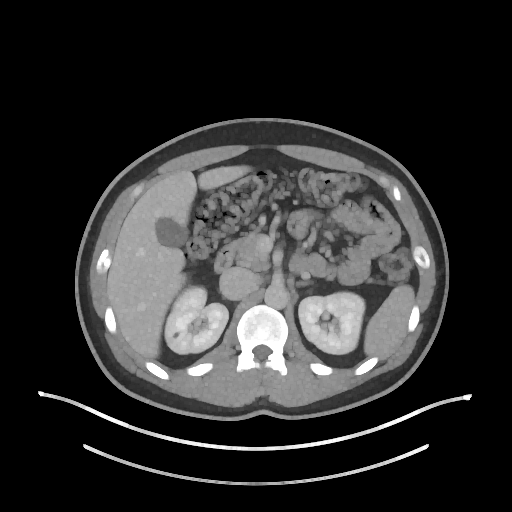Lesion: (169, 330, 181, 342)
